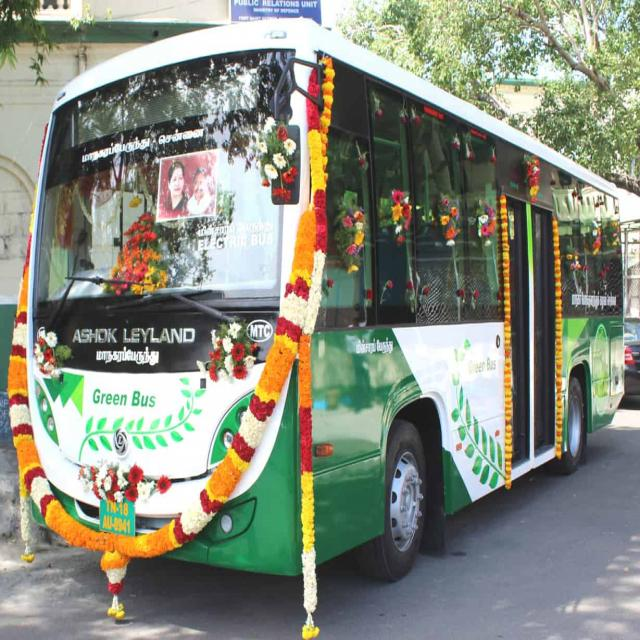BUS: (29, 25, 623, 611)
